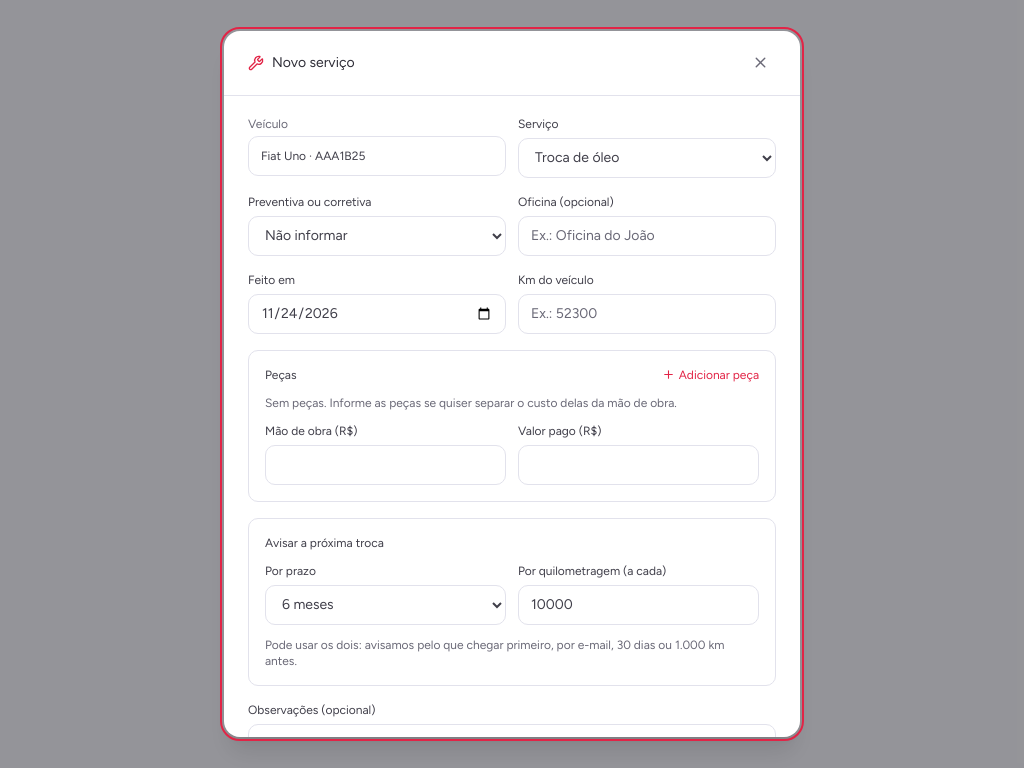
ServicoModal: peças e mão de obra › recusa peça sem nome em vez de gravar
The image size is (1024, 768).
Click the button "Adicionar peça" at (710, 375), box [662,367,759,383]
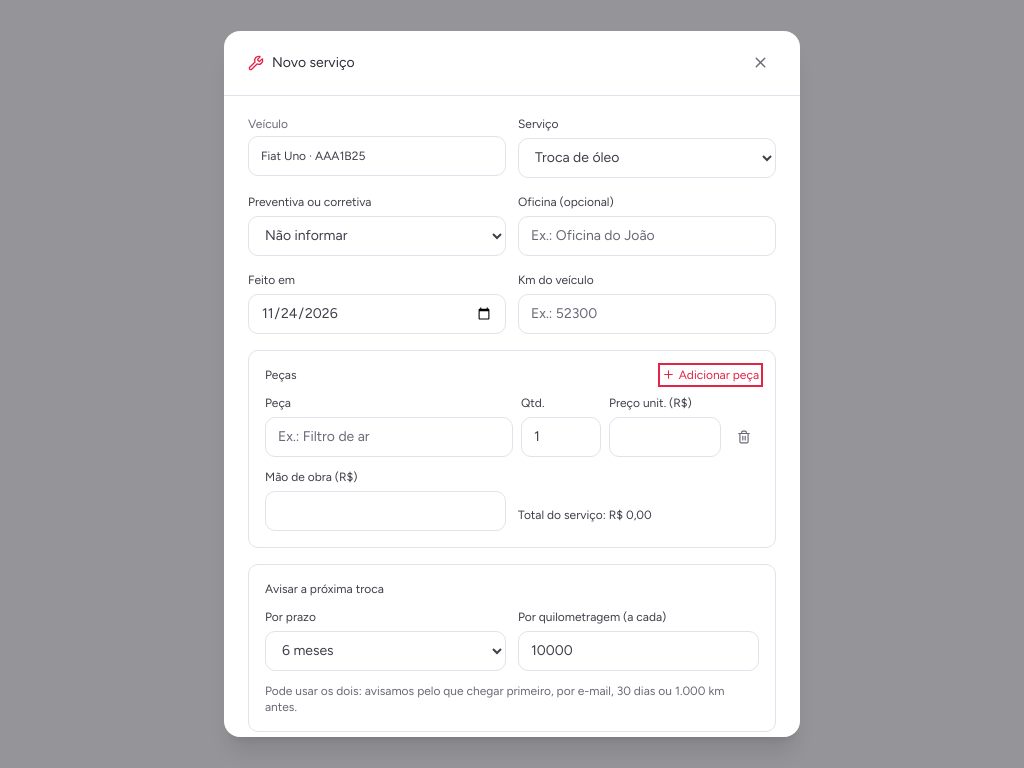
Type "10" into the field labelled "Preço unit. (R$)" at (665, 437), box [609,417,721,457]
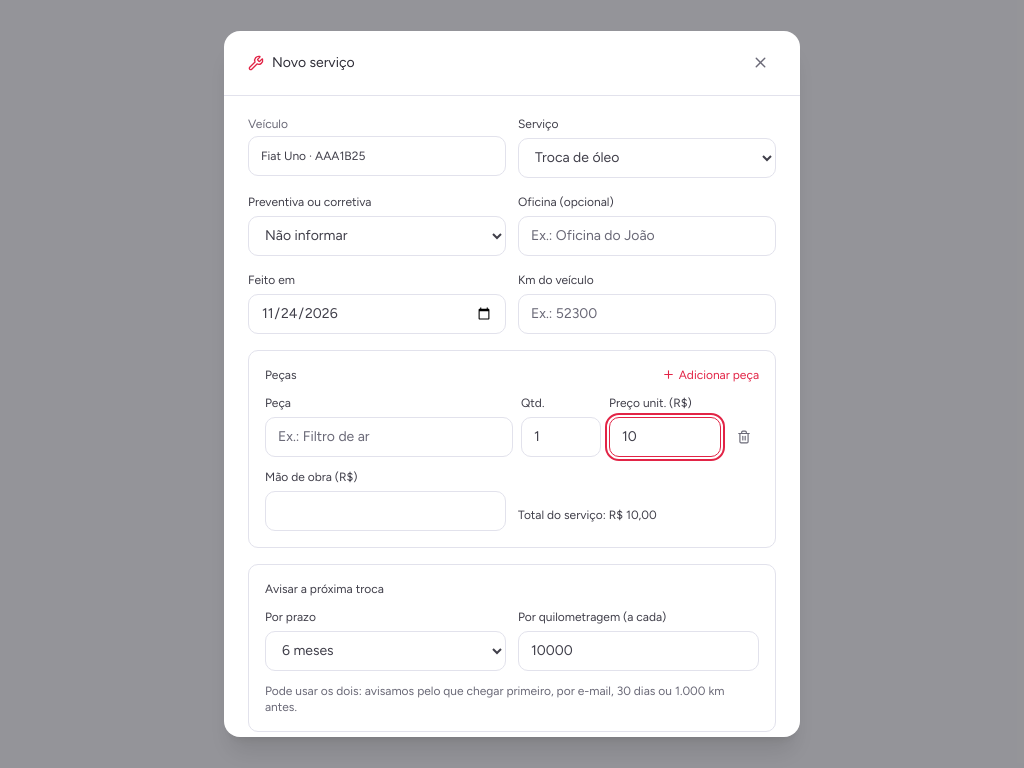
Type "52300" into the field labelled "Km do veículo" at (647, 314), box [518,294,776,334]
(page scrolled)
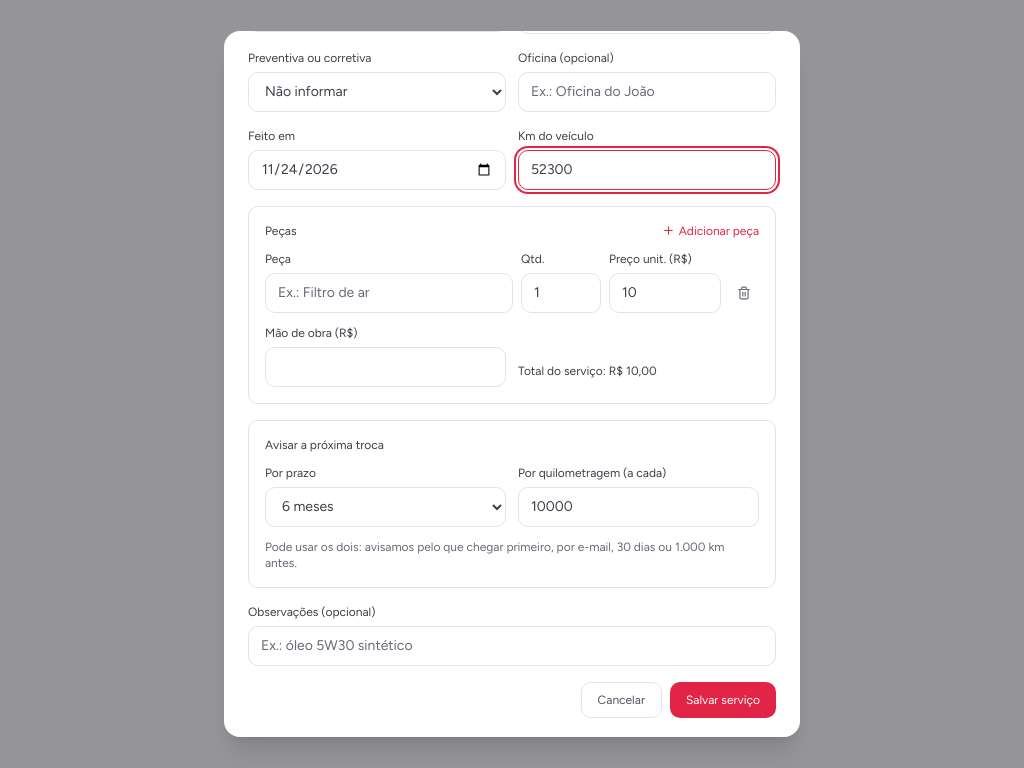
Click the button "Salvar serviço" at (723, 700), box [670,682,776,718]
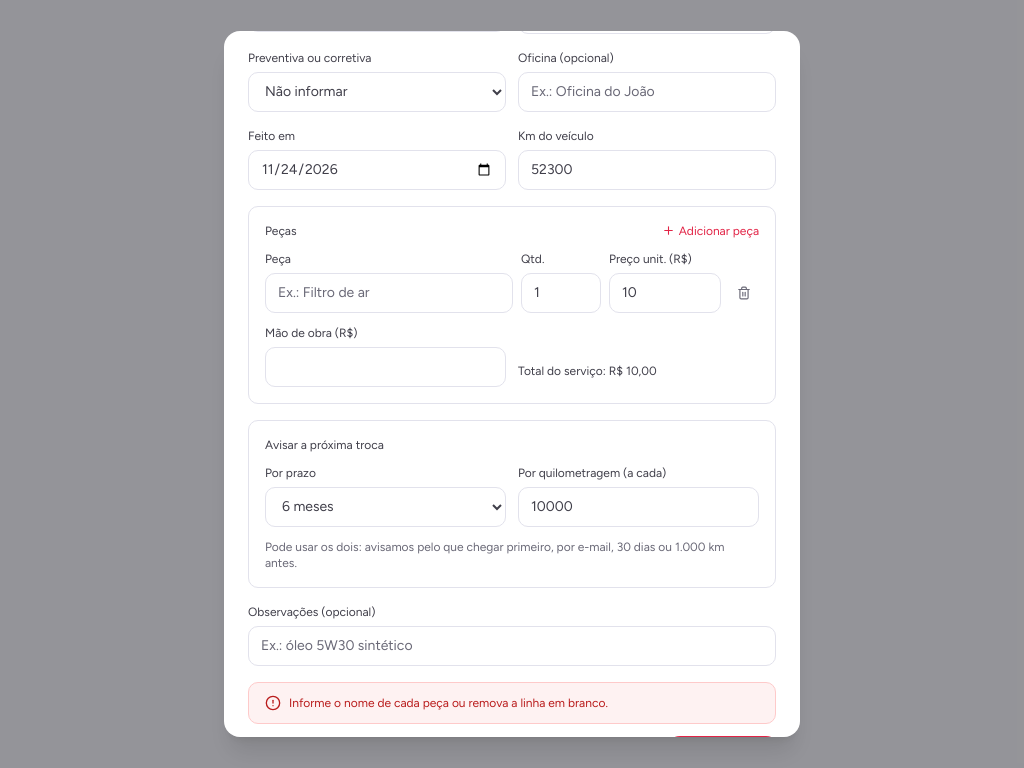
Expected: the message reads "Informe o nome de cada peça ou remova a linha em branco.", [289,696,608,710]
